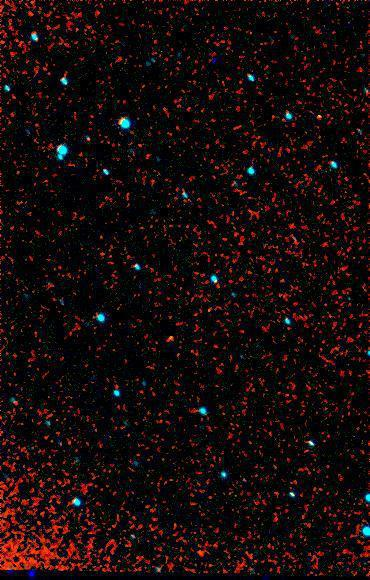star: (185, 537, 215, 567)
